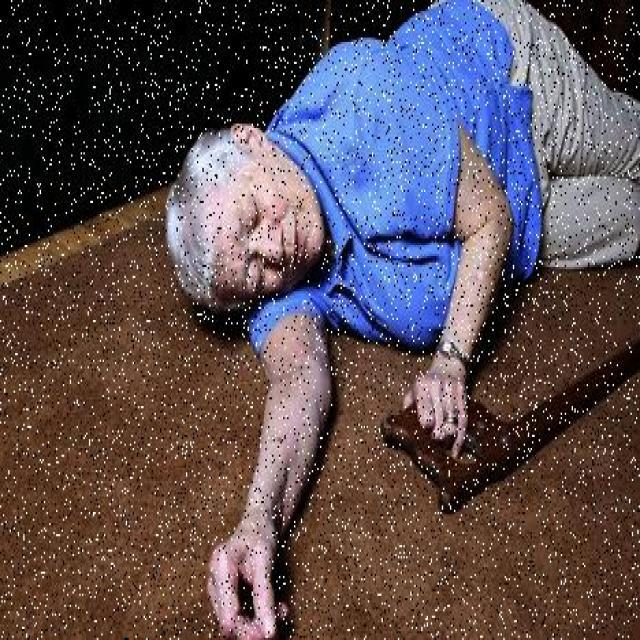fall: (170, 0, 638, 532)
